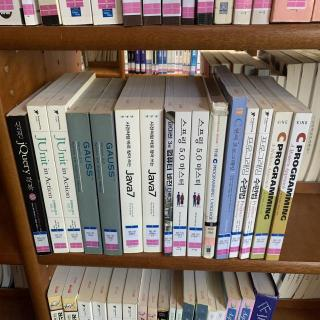book-spine: (263, 109, 312, 264), (246, 109, 294, 262), (6, 112, 52, 258), (27, 103, 69, 254), (213, 95, 248, 260), (47, 104, 85, 254), (237, 107, 274, 261), (66, 111, 103, 256), (195, 105, 229, 260), (226, 106, 260, 259), (90, 112, 121, 256), (115, 109, 143, 253), (183, 111, 210, 257), (139, 109, 164, 252), (172, 111, 192, 256), (163, 111, 175, 257)
